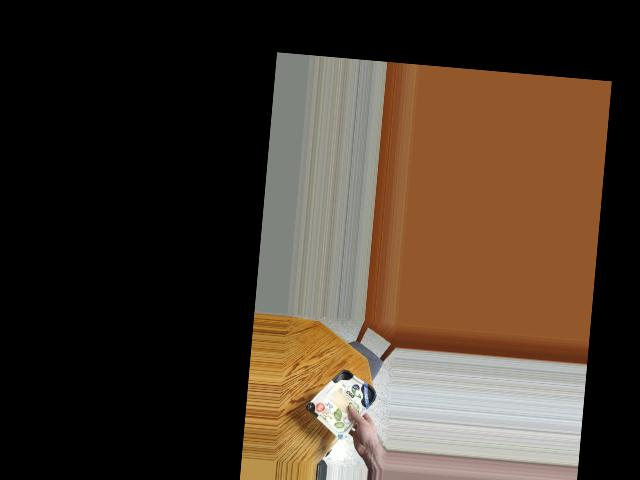cheese: (310, 367, 379, 431)
